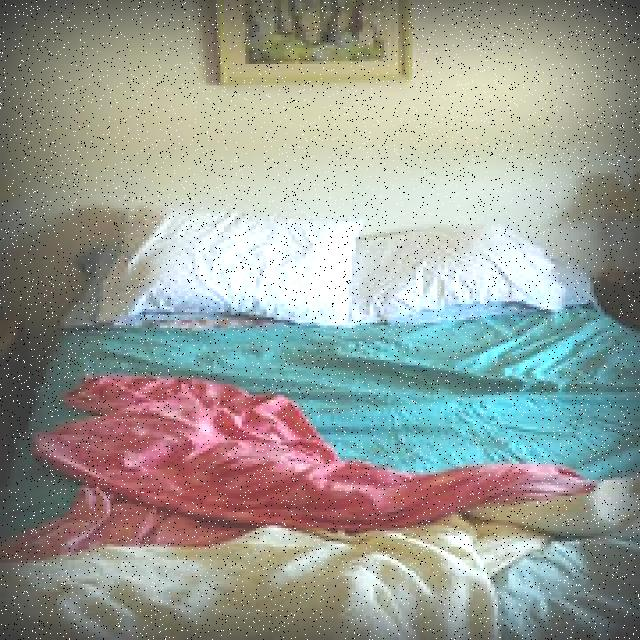bed: (32, 213, 640, 640)
